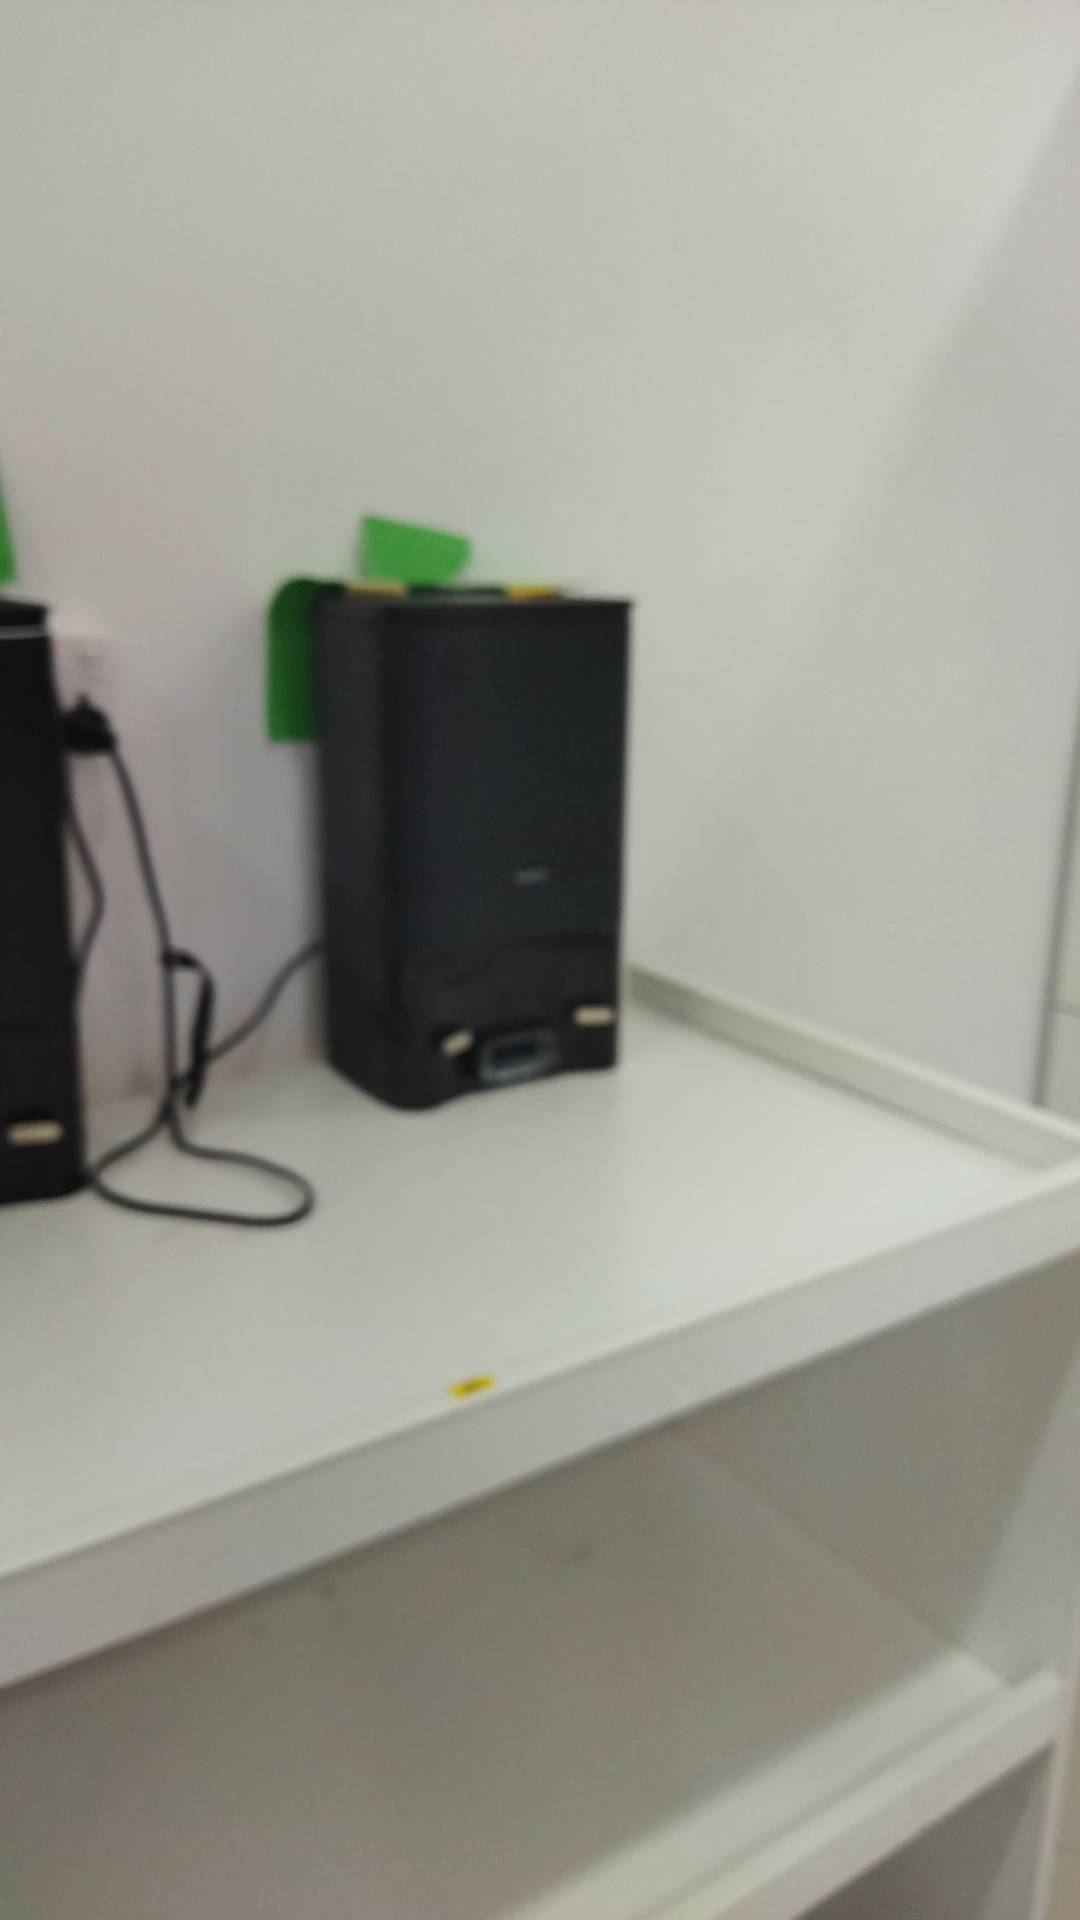dust collecting barrel: (311, 587, 637, 1113)
